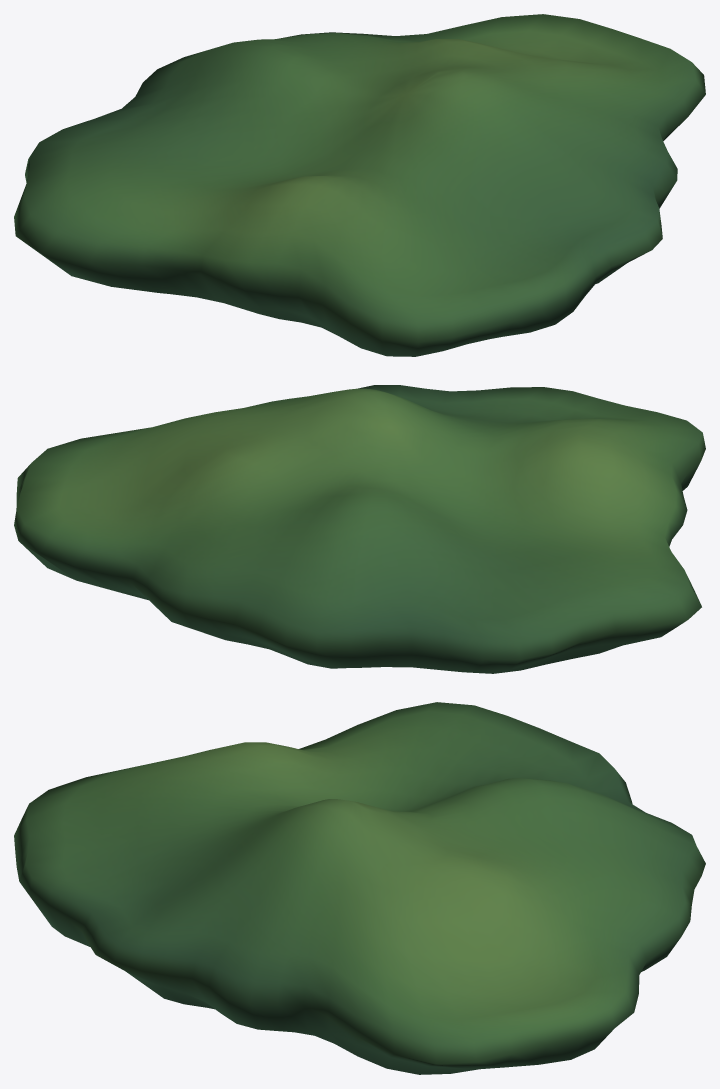
The model's file is ForestCorner_A.fbx.
The picture shows the model from 3 angles, top to bottom: view 1: azimuth 30°, elevation 25°; view 2: azimuth 150°, elevation 25°; view 3: azimuth 270°, elevation 25°; orthographic projection. The views are drawn at different scales.
Parts seen in each view (by area): view 1: ForestCorner_A; view 2: ForestCorner_A; view 3: ForestCorner_A.
Boxes of the visible parts, bbox=[...] form: ForestCorner_A: bbox=[14, 14, 705, 356]; ForestCorner_A: bbox=[14, 385, 705, 673]; ForestCorner_A: bbox=[14, 702, 705, 1074].
Size of the model in its own units: 3469 by 744 by 2952.
1 material, 1 textured.
